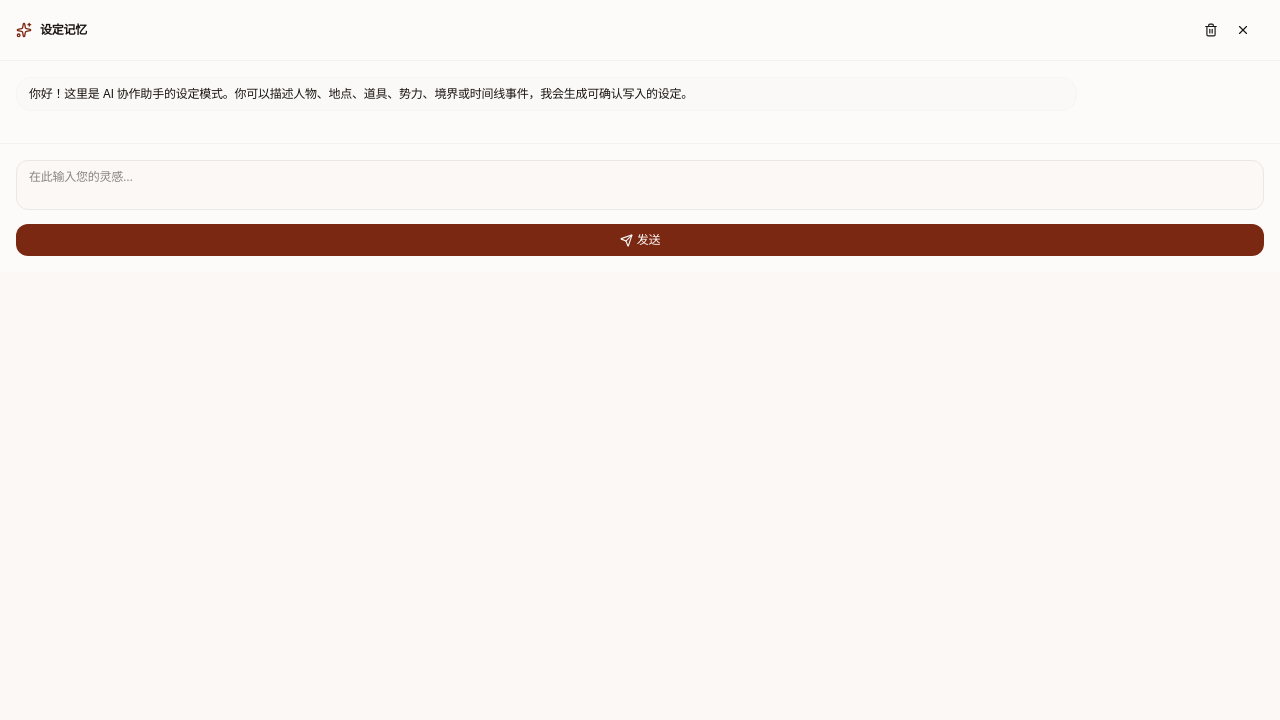
Test case: WorldBibleAssistant continuation batch sync › 首次解析失败后使用压缩重试，二次仍截断则阻止同步
In the text box named "输入设定灵感": (640, 185) [16, 160, 1264, 210], type "处理资料包中的设定"
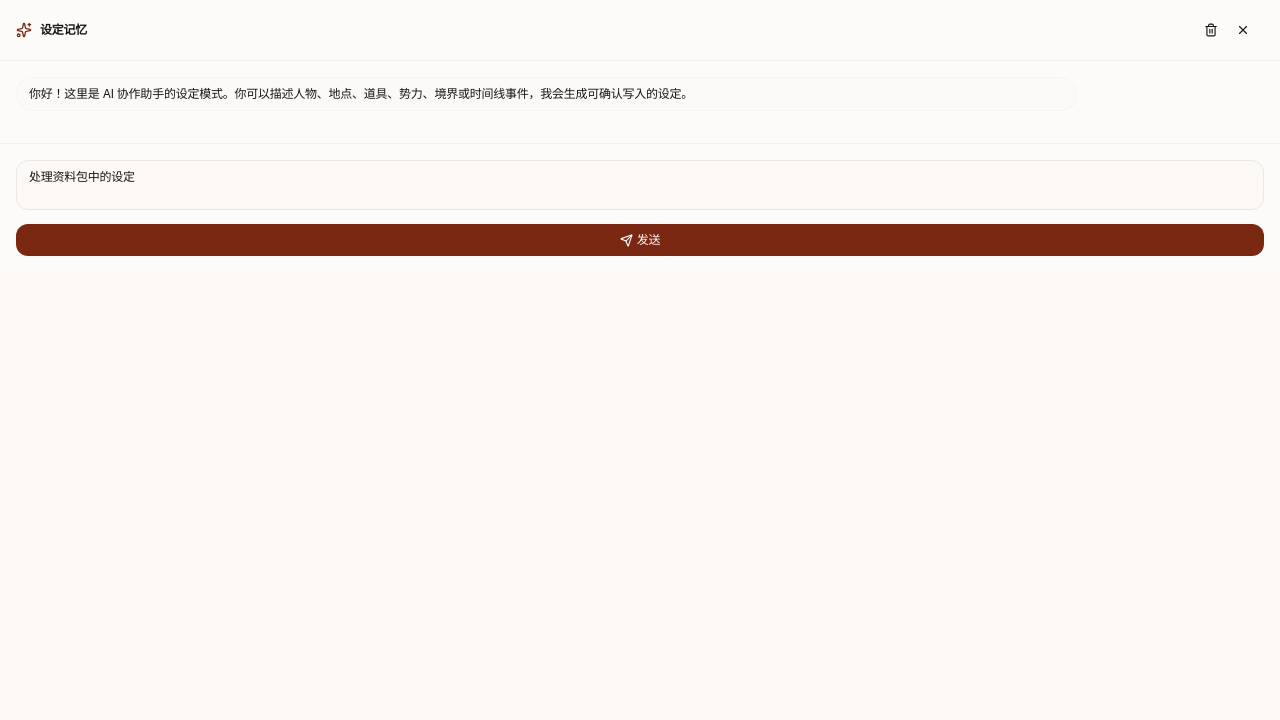
Click the button with aria-label "发送设定灵感": (640, 240) [16, 224, 1264, 256]
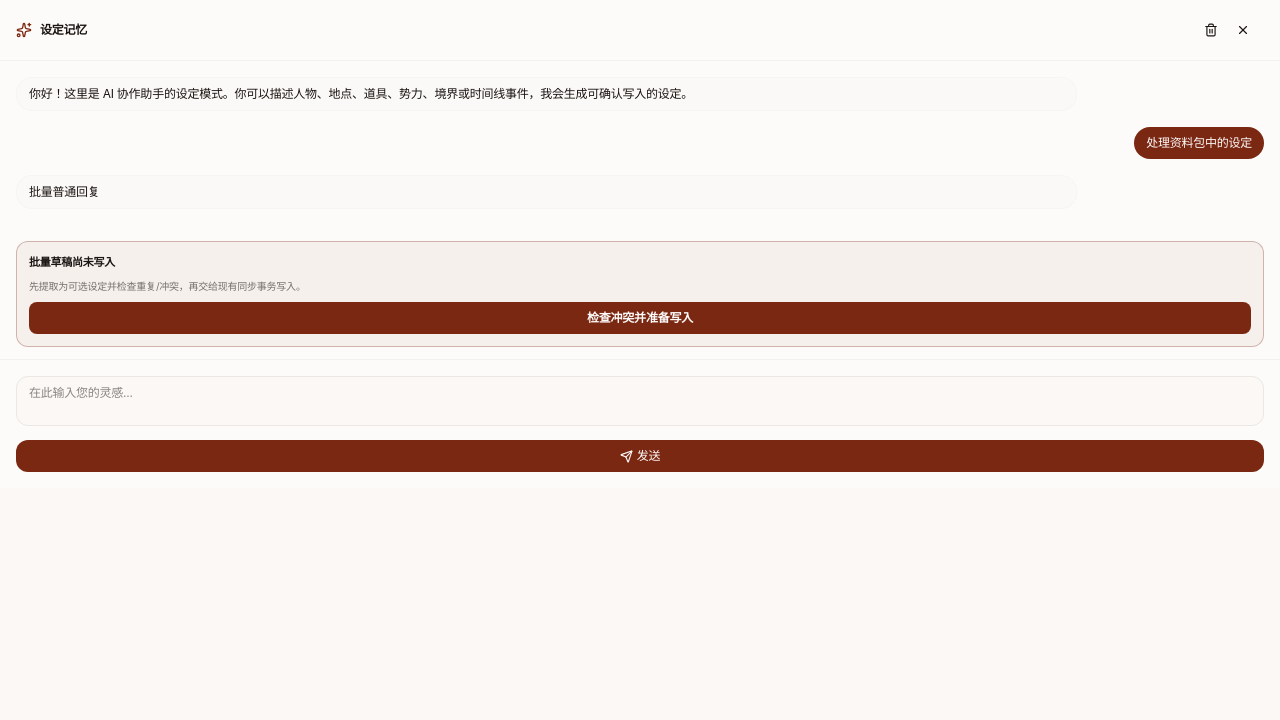
Now the text "批量普通回复" is shown, box [29, 184, 100, 199]
Click the button "检查冲突并准备写入": (640, 318) [29, 302, 1251, 334]
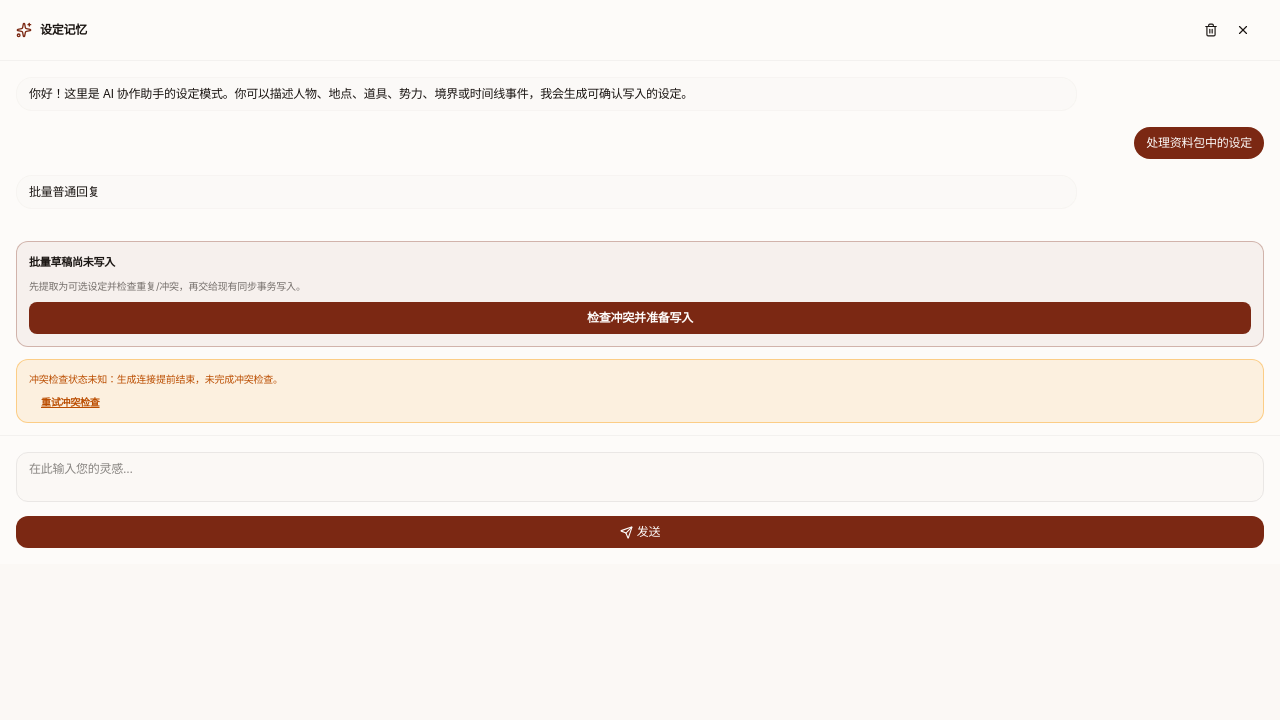
Now the text "冲突检查状态未知：生成连接提前结束，未完成冲突检查。" is shown, box [29, 372, 283, 384]
